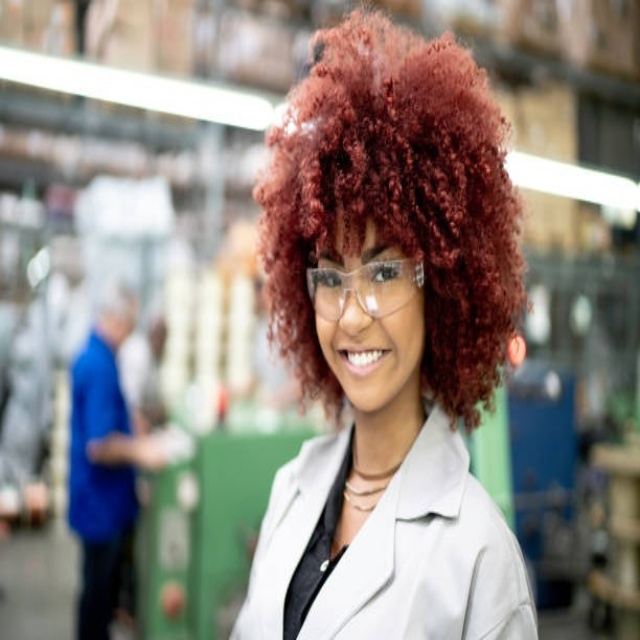Gafas: (305, 255, 425, 322)
Sin_mascara: (332, 336, 401, 405)
